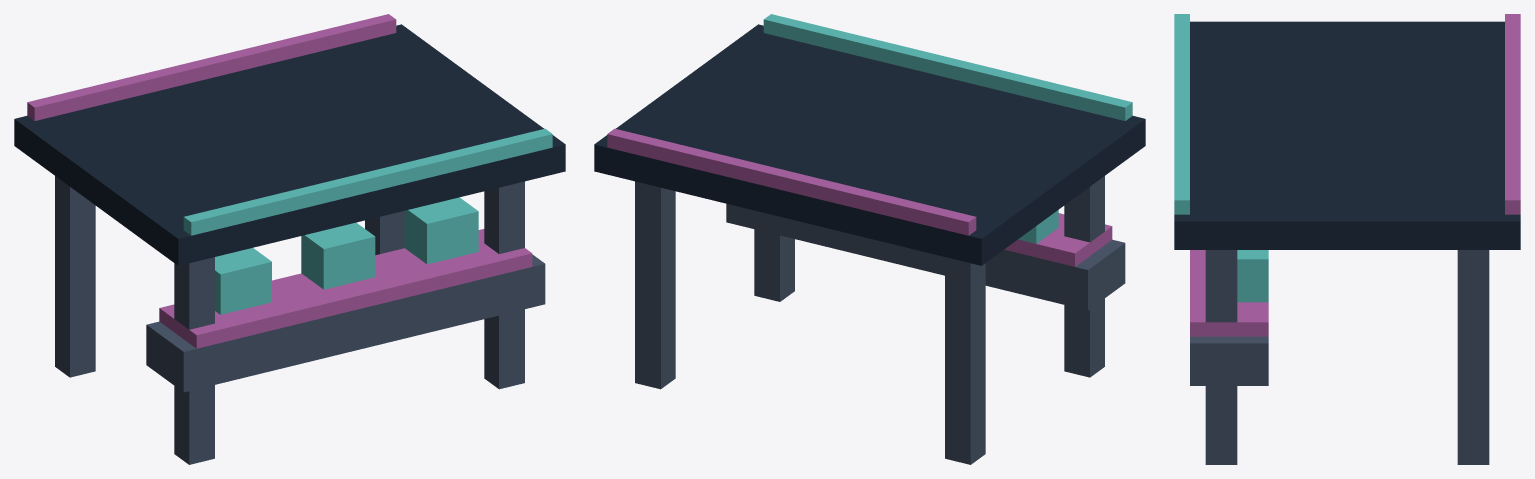
Rendered from market.glb.
The picture shows the model from 3 angles, left to right: view 1: azimuth 30°, elevation 25°; view 2: azimuth 150°, elevation 25°; view 3: azimuth 270°, elevation 25°; orthographic projection. The views are drawn at different scales.
Visible parts, largest first — view 1: Shell; view 2: Shell; view 3: Shell.
Part boxes in pixels (x1,y1,x2,y2): Shell: (14, 14, 565, 464); Shell: (594, 14, 1145, 464); Shell: (1174, 14, 1520, 464).
Size of the model in its own units: 3.75 by 2.38 by 2.75.
